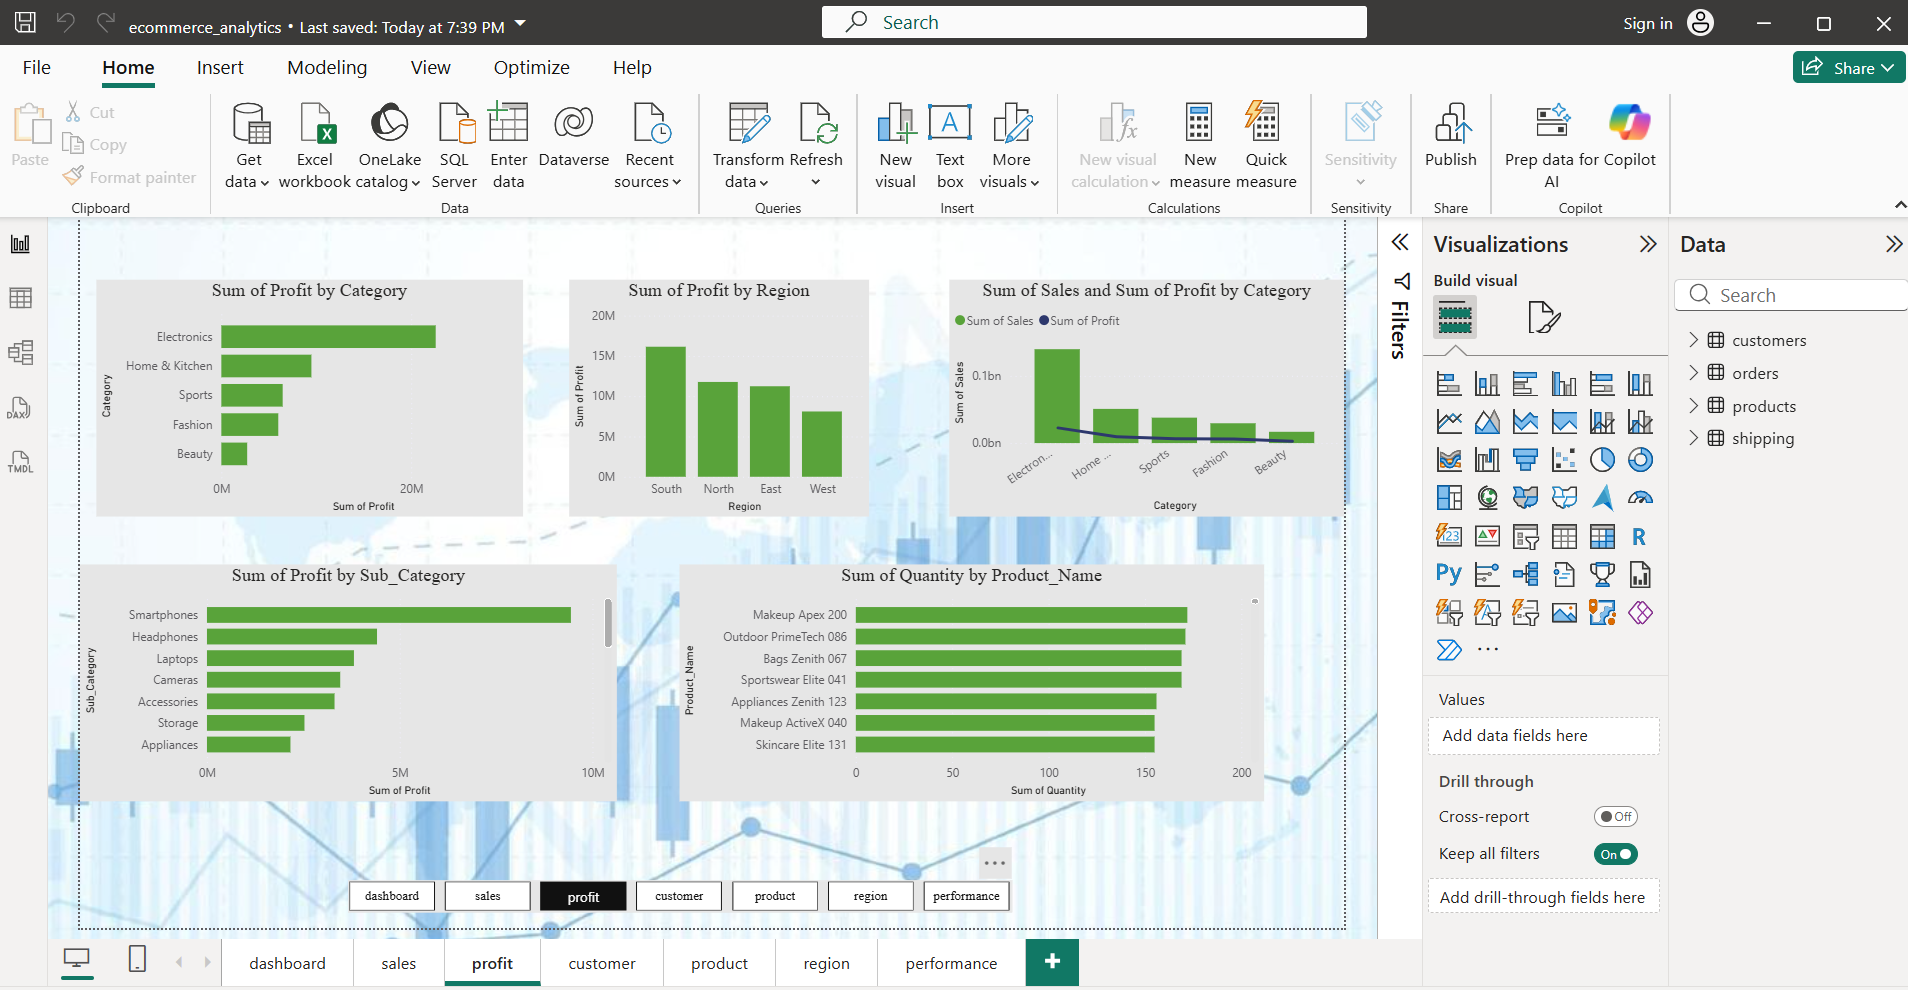

The dashboard page shown, as its layout file describes it:
{"tool":"powerbi","page":{"name":"profit","canvas":[1280,720],"ordinal":2},"visuals":[{"type":"clusteredBarChart","fields":{"Y":["Sum( orders.Profit)"],"Category":[" products.Category"]},"box":[16,64,432,240],"z":0},{"type":"clusteredColumnChart","fields":{"Category":[" customers.Region"],"Y":["Sum( orders.Profit)"]},"box":[496,64,304,240],"z":1000},{"type":"barChart","fields":{"Category":[" products.Sub_Category"],"Y":["Sum( orders.Profit)"]},"box":[0,352,544,240],"z":2000},{"type":"barChart","fields":{"Category":[" products.Product_Name"],"Y":["Sum( orders.Quantity)"]},"box":[608,352,592,240],"z":3000},{"type":"lineClusteredColumnComboChart","fields":{"Category":[" products.Category"],"Y":["Sum( orders.Sales)"],"Y2":["Sum( orders.Profit)"]},"box":[880,64,400,240],"z":4000},{"type":"pageNavigator","box":[272,672,672,32],"z":5000}]}

Visuals, with their boxes on the page's 1280x720 design canvas (x1, y1, x2, y2). These are canvas units, not pixel positions in the 1908x990 screenshot, which may show the page scaled, cropped or inside an application window:
clusteredBarChart - Sum( orders.Profit) x  products.Category: [16,64,448,304]
clusteredColumnChart -  customers.Region x Sum( orders.Profit): [496,64,800,304]
barChart -  products.Sub_Category x Sum( orders.Profit): [0,352,544,592]
barChart -  products.Product_Name x Sum( orders.Quantity): [608,352,1200,592]
lineClusteredColumnComboChart -  products.Category x Sum( orders.Sales): [880,64,1280,304]
pageNavigator: [272,672,944,704]
